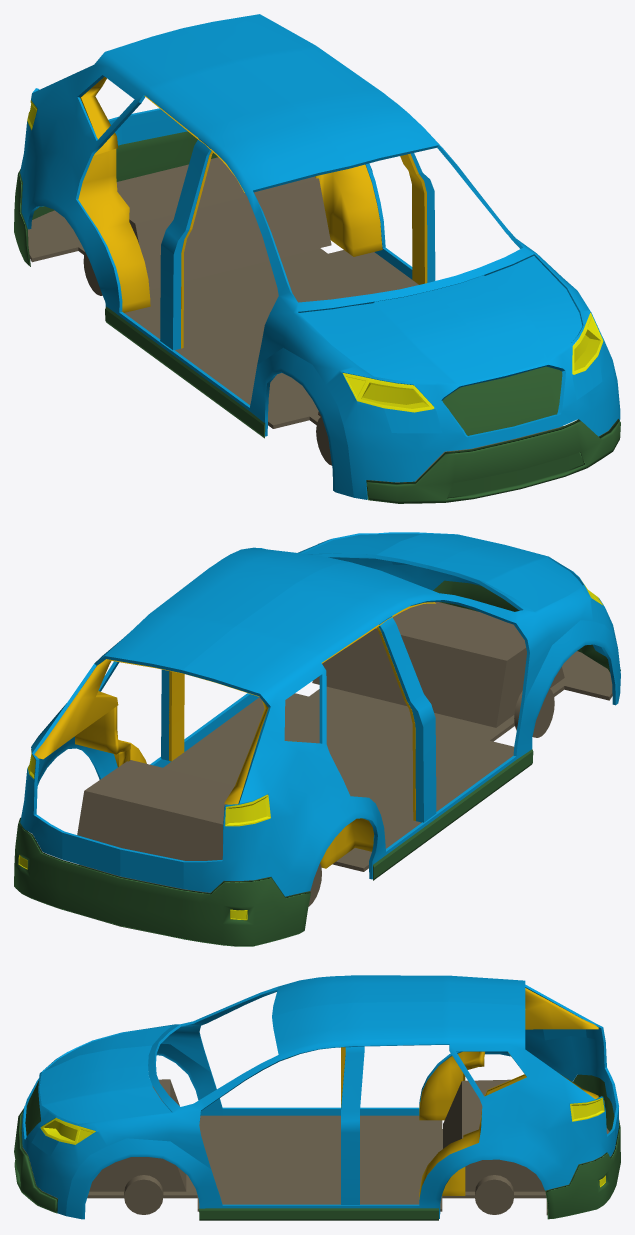
File: Car_Body.fbx
3 views of the same model, one above another, from view 1: azimuth 30°, elevation 25°; view 2: azimuth 150°, elevation 25°; view 3: azimuth 270°, elevation 25° (orthographic). The views are drawn at different scales.
Visible parts, largest first — view 1: Car_Body; view 2: Car_Body; view 3: Car_Body.
Boxes of the visible parts, x1,y1,x2,y2 form: Car_Body: (14, 14, 620, 503); Car_Body: (14, 532, 620, 946); Car_Body: (14, 975, 620, 1220).
Bounding box in the file's own units: 200 × 151 × 478.
